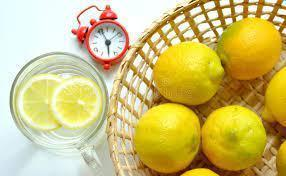lemon: (150, 42, 224, 105), (134, 103, 200, 173), (202, 105, 267, 171), (217, 17, 282, 80), (51, 76, 103, 128), (18, 73, 64, 131), (265, 65, 286, 127)
